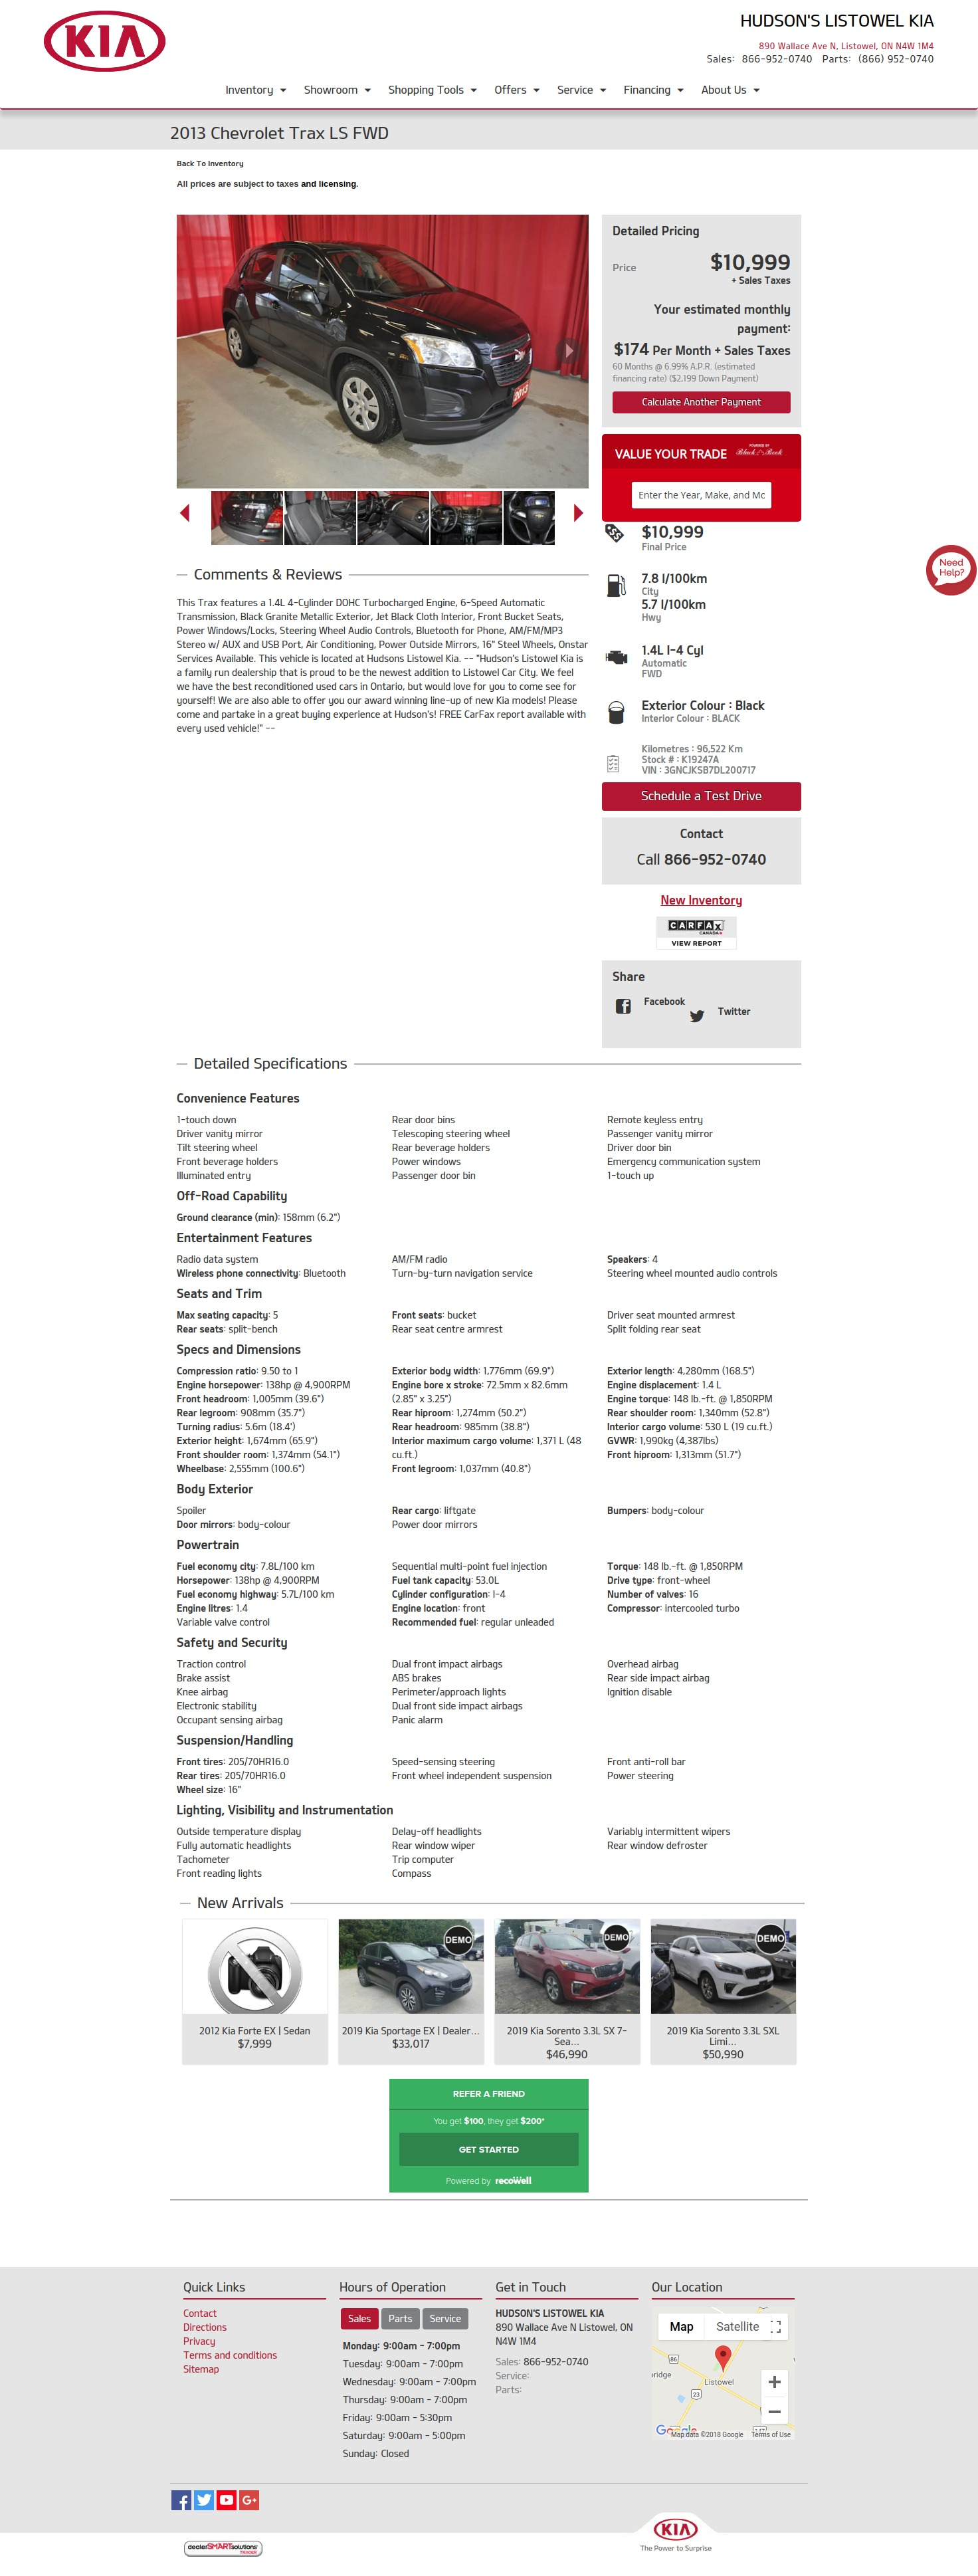car: (574, 504, 585, 524)
